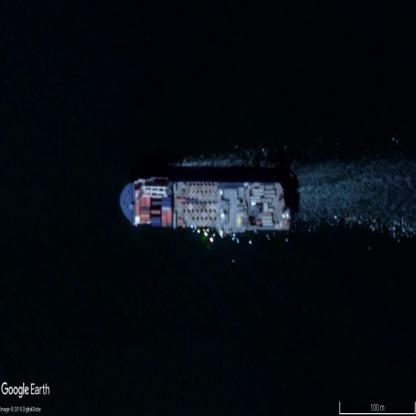ship: (118, 178, 290, 236)
